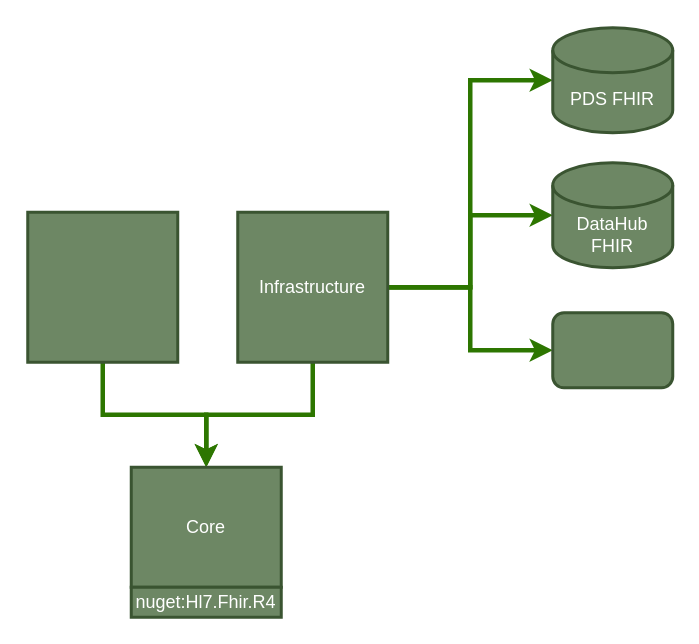
Some shapes in this 699 by 644 pixel diagram are drawn without their labels. The centre of each missing label's shape, as x and y in pixels:
"API" goes at point 102,286.
"Mesh" goes at point 612,349.
